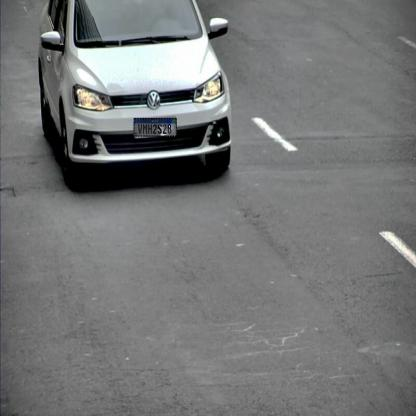PlacaM: (134, 118, 176, 136)
